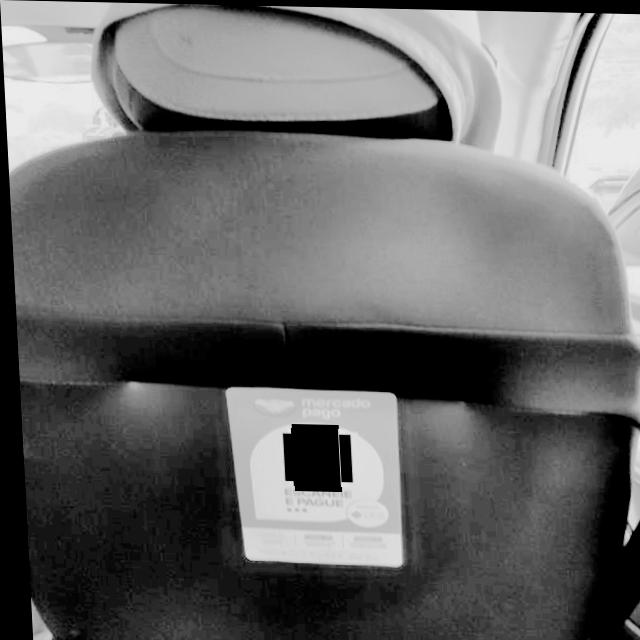qr_code: (283, 427, 343, 486)
